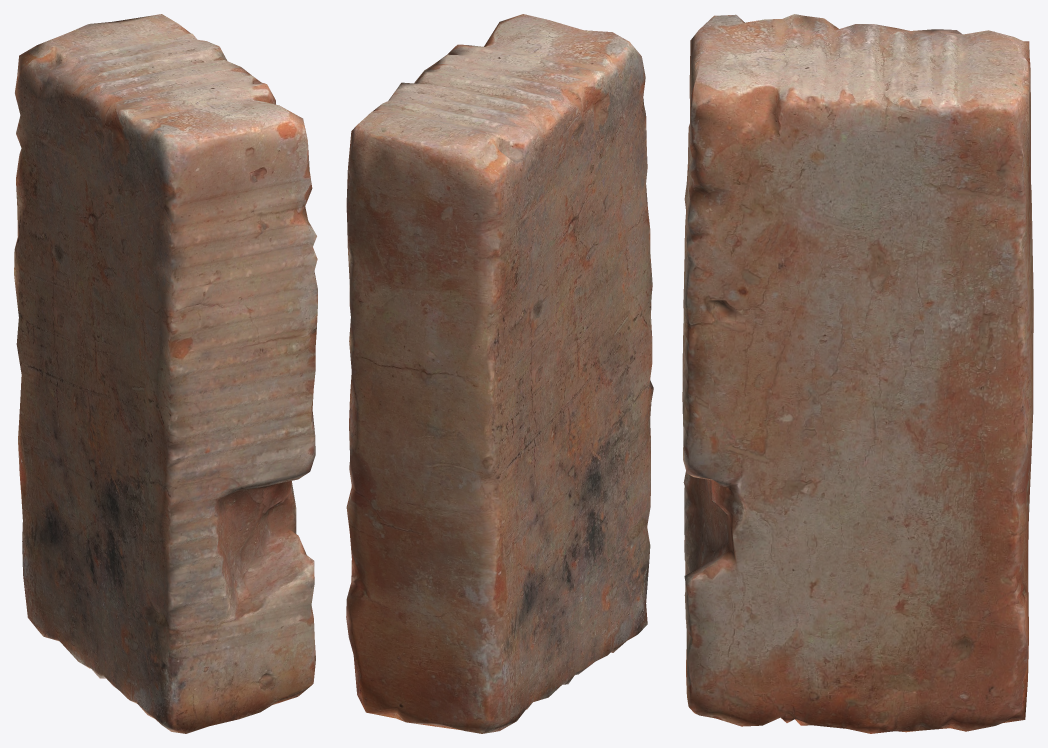
File: brick-original.glb
The picture shows the model from 3 angles, left to right: view 1: azimuth 30°, elevation 25°; view 2: azimuth 150°, elevation 25°; view 3: azimuth 270°, elevation 25°; orthographic projection. The views are drawn at different scales.
Visible parts, largest first — view 1: SM_Brick_01; view 2: SM_Brick_01; view 3: SM_Brick_01.
Part boxes in pixels (bbox=[...]): SM_Brick_01: bbox=[14, 14, 317, 733]; SM_Brick_01: bbox=[346, 14, 653, 733]; SM_Brick_01: bbox=[682, 14, 1033, 733].
Bounding box in the file's own units: 5.43 × 19.96 × 9.8.
1 material, 1 textured.
